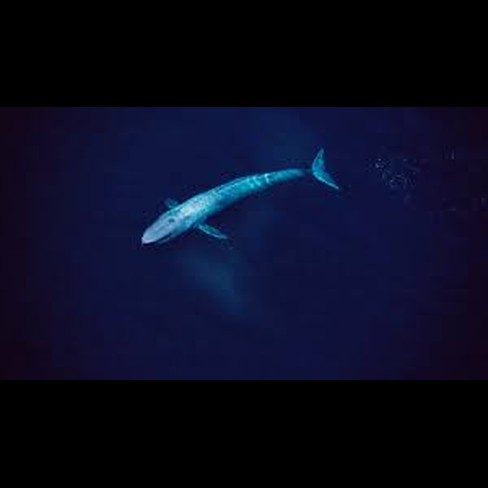bluewhale: (135, 141, 346, 258)
